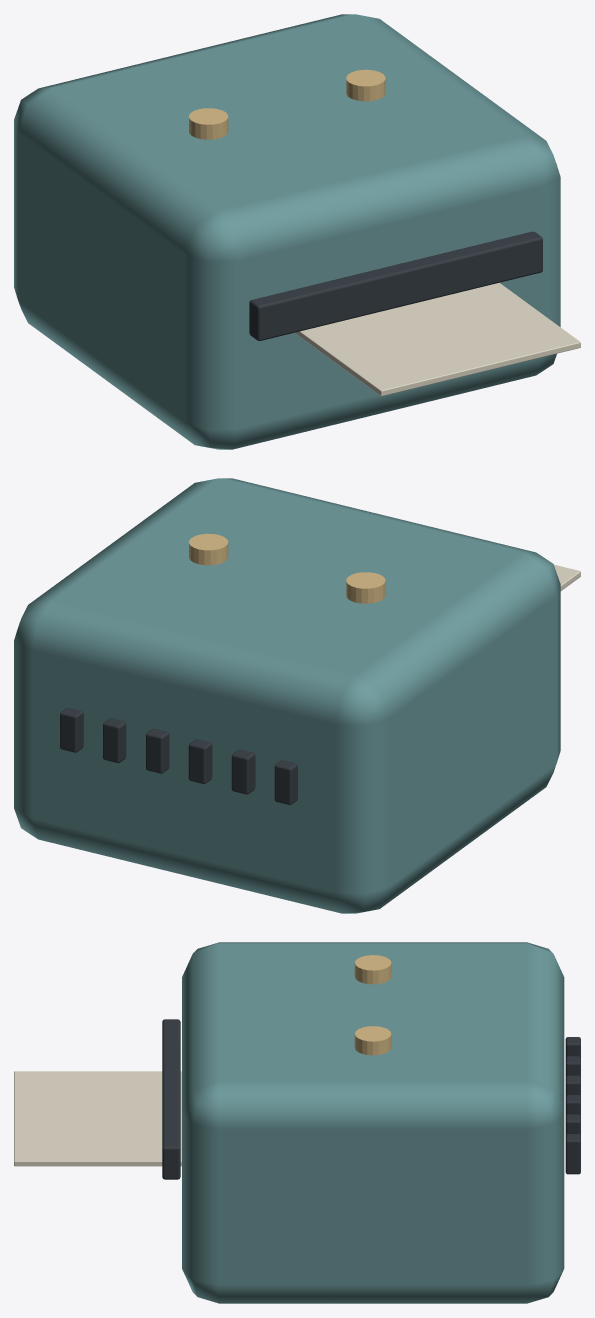
3 renders of one model, top to bottom at view 1: azimuth 30°, elevation 25°; view 2: azimuth 150°, elevation 25°; view 3: azimuth 270°, elevation 25°, orthographic. The views are drawn at different scales.
Visible parts, largest first — view 1: abandoned-cinema-and-projection-booth-ticket-printer; view 2: abandoned-cinema-and-projection-booth-ticket-printer; view 3: abandoned-cinema-and-projection-booth-ticket-printer.
Boxes of the visible parts, left/top/right/bottom form: abandoned-cinema-and-projection-booth-ticket-printer: left=14, top=14, right=580, bottom=449; abandoned-cinema-and-projection-booth-ticket-printer: left=14, top=478, right=580, bottom=913; abandoned-cinema-and-projection-booth-ticket-printer: left=14, top=942, right=580, bottom=1303.
Bounding box in the file's own units: 0.26 × 0.17 × 0.371.
